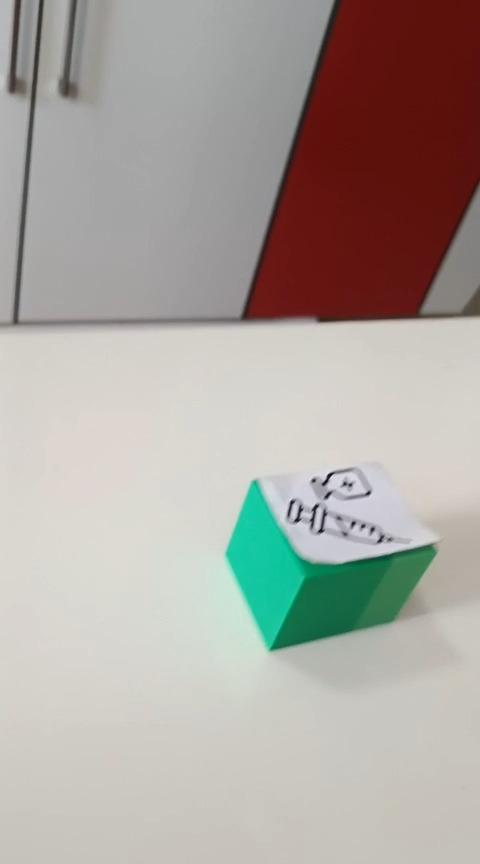antiseptic cream: (223, 459, 441, 652)
